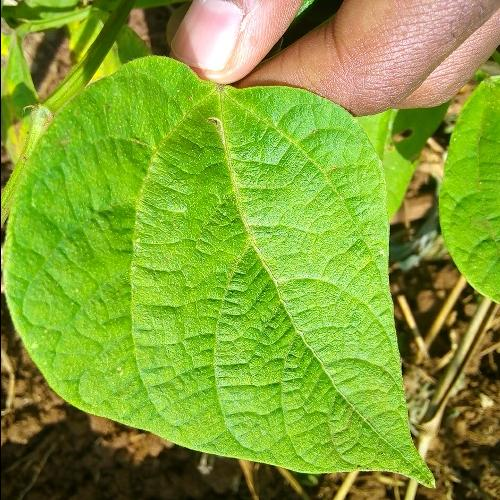sehat: (66, 100, 366, 432)
